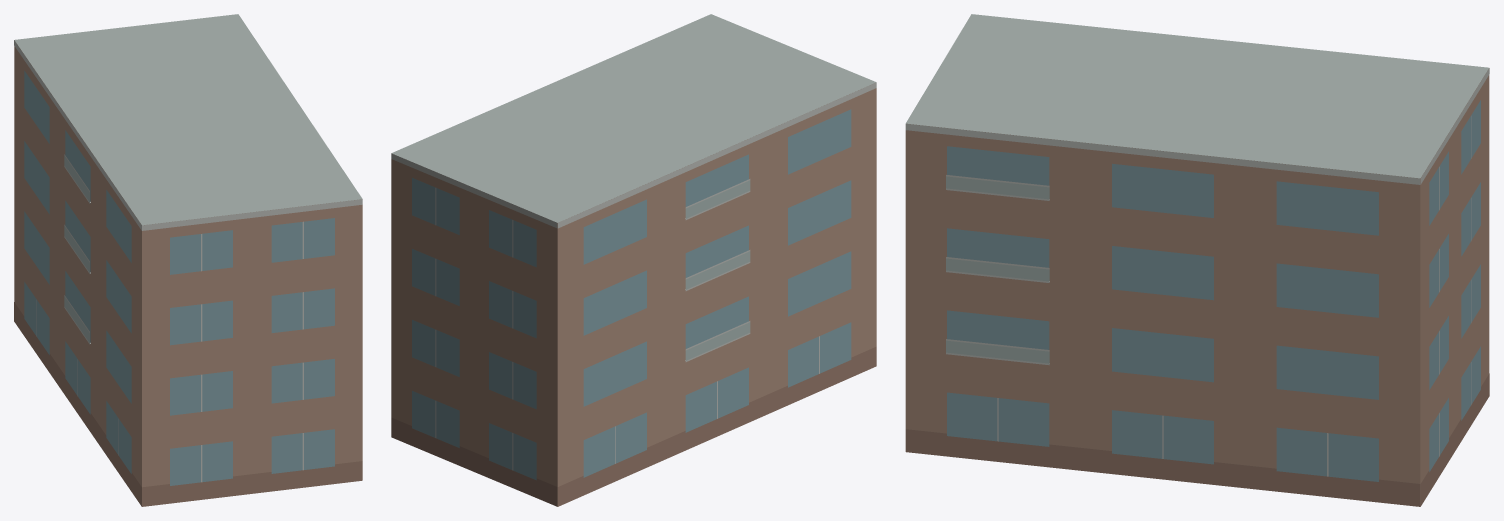
The model's file is survey-upis-33026342.glb.
3 views of the same model, side by side, from view 1: azimuth 30°, elevation 25°; view 2: azimuth 150°, elevation 25°; view 3: azimuth 270°, elevation 25° (orthographic). The views are drawn at different scales.
Visible parts, largest first — view 1: survey-upis-33026342.tmp; view 2: survey-upis-33026342.tmp; view 3: survey-upis-33026342.tmp.
Part boxes in pixels (x1,y1,x2,y2): survey-upis-33026342.tmp: [14, 14, 362, 506]; survey-upis-33026342.tmp: [391, 14, 876, 506]; survey-upis-33026342.tmp: [905, 14, 1489, 506].
Bounding box in the file's own units: 13.11 × 12.2 × 19.67.
